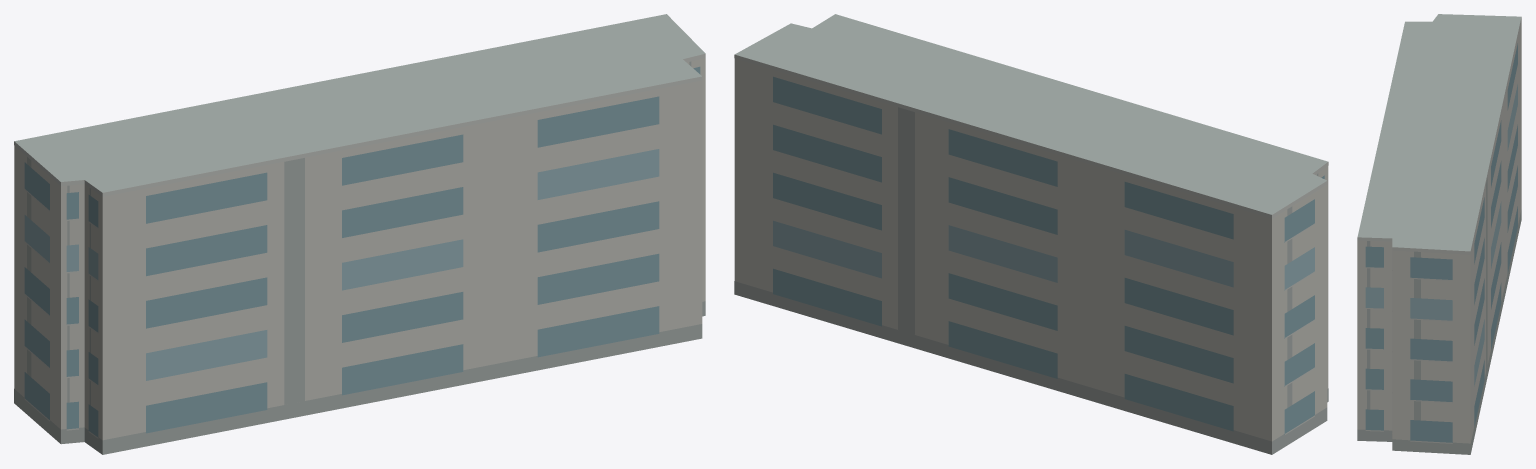
Rendered from survey-upis-32459283.glb.
3 renders of one model, left to right at view 1: azimuth 30°, elevation 25°; view 2: azimuth 150°, elevation 25°; view 3: azimuth 270°, elevation 25°, orthographic. The views are drawn at different scales.
Parts seen in each view (by area): view 1: survey-upis-32459283.tmp; view 2: survey-upis-32459283.tmp; view 3: survey-upis-32459283.tmp.
Boxes of the visible parts, x1,y1,x2,y2 form: survey-upis-32459283.tmp: (14, 14, 705, 454); survey-upis-32459283.tmp: (734, 14, 1328, 454); survey-upis-32459283.tmp: (1357, 14, 1521, 454).
Bounding box in the file's own units: 38.17 × 15.25 × 11.15.
